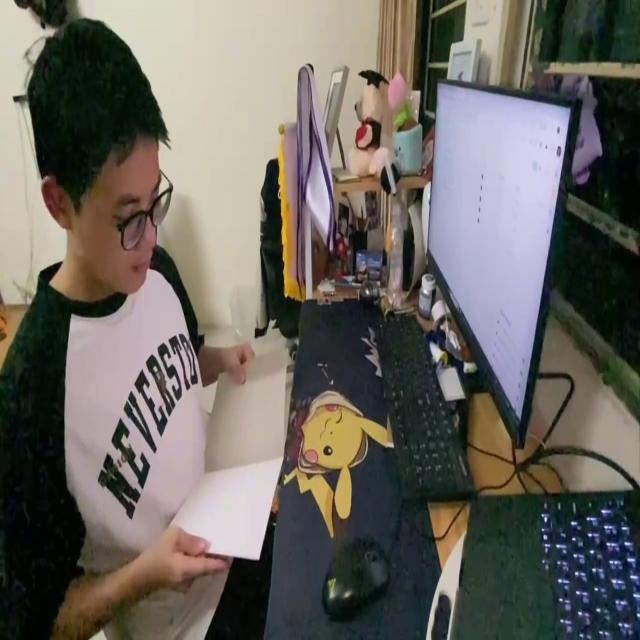book: (168, 338, 290, 568)
laptop: (422, 72, 584, 460), (441, 481, 640, 640)
student: (0, 15, 268, 640)
